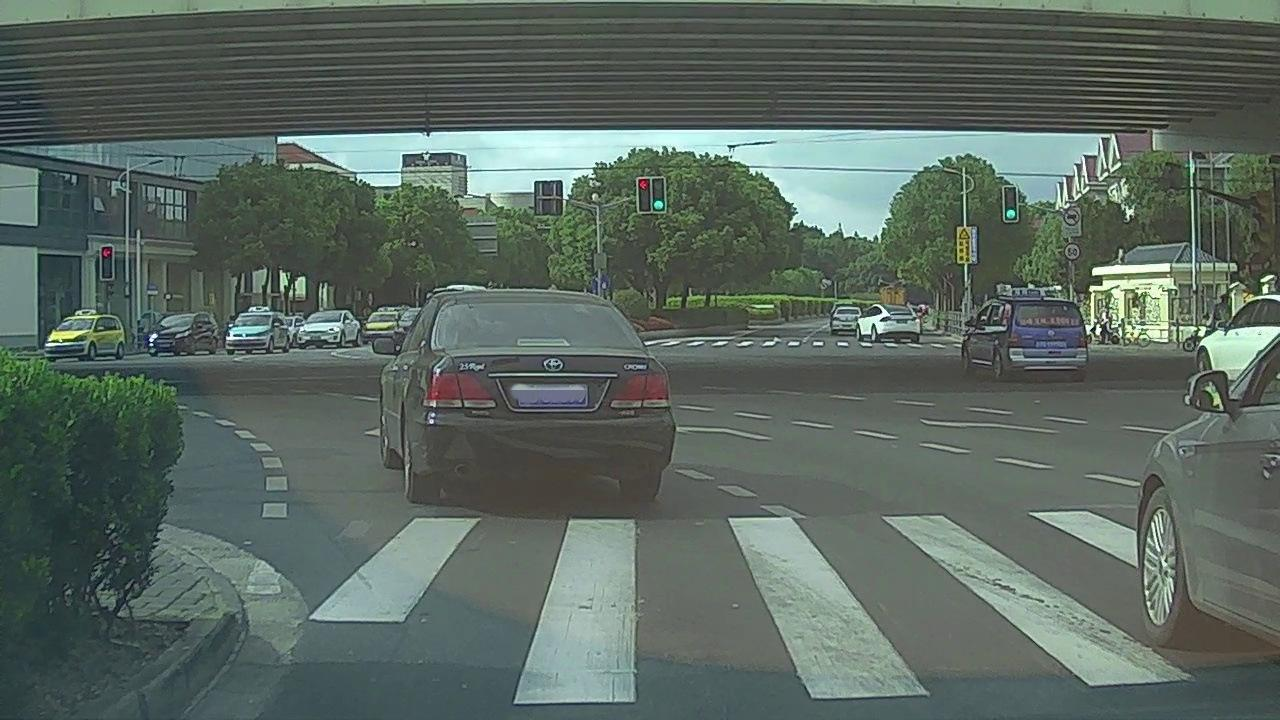traffic_light: (637, 178, 652, 213), (650, 177, 665, 212), (102, 246, 113, 278)
